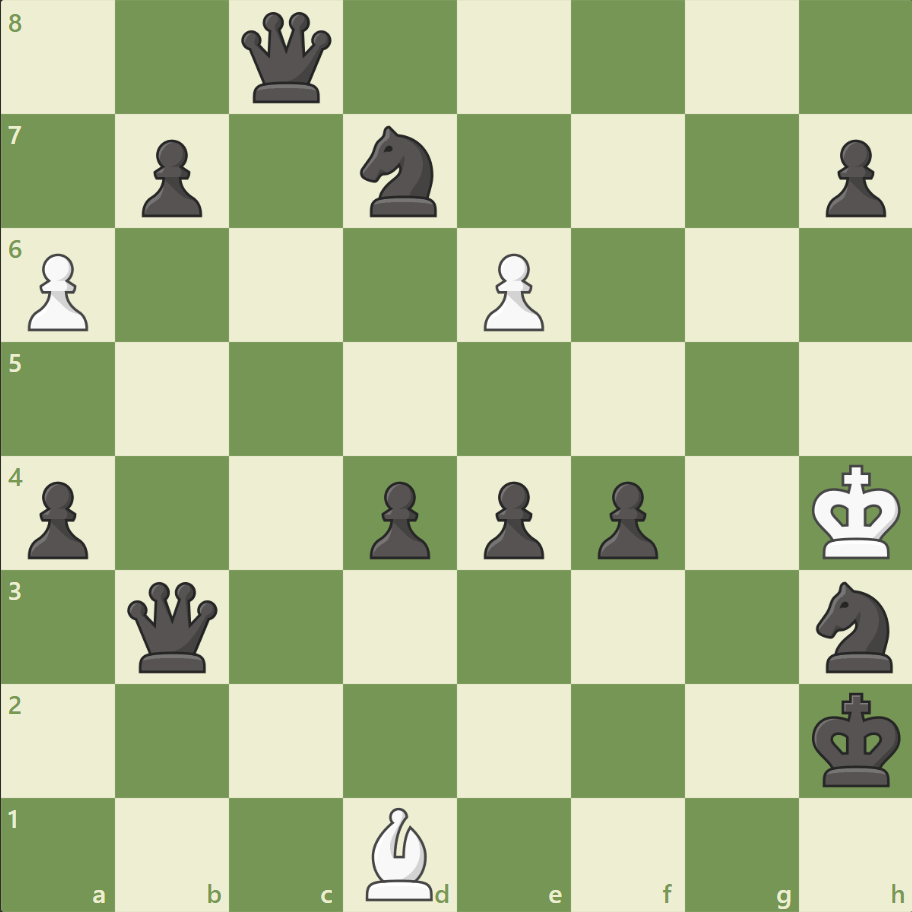B: (358, 801, 442, 904)
K: (806, 458, 906, 566)
P: (20, 246, 95, 337), (474, 246, 549, 337)
k: (806, 685, 906, 793)
n: (351, 121, 449, 223), (806, 575, 903, 677)
p: (133, 132, 208, 223), (20, 473, 95, 564), (474, 473, 549, 564), (815, 132, 889, 223), (361, 473, 435, 564), (588, 473, 662, 564)
q: (124, 576, 223, 676), (237, 9, 336, 108)
